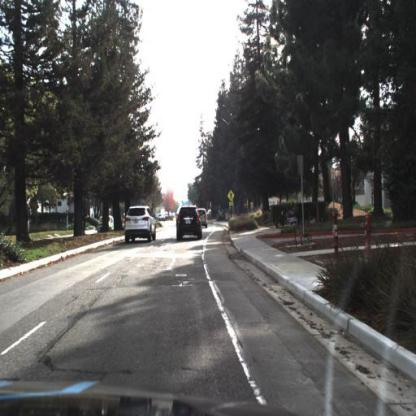car: (125, 206, 158, 246), (178, 206, 205, 242), (98, 215, 117, 236)
